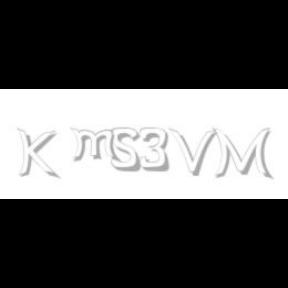3: (140, 128, 170, 172)
K: (17, 128, 57, 180)
M: (212, 128, 270, 180)
S: (110, 128, 142, 172)
V: (169, 128, 217, 176)
m: (69, 128, 121, 162)
